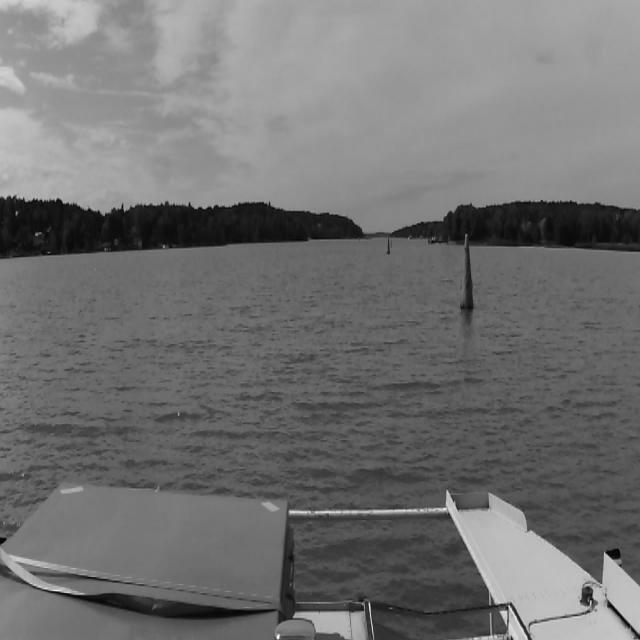buoy: (462, 235, 472, 317), (387, 238, 391, 260)
